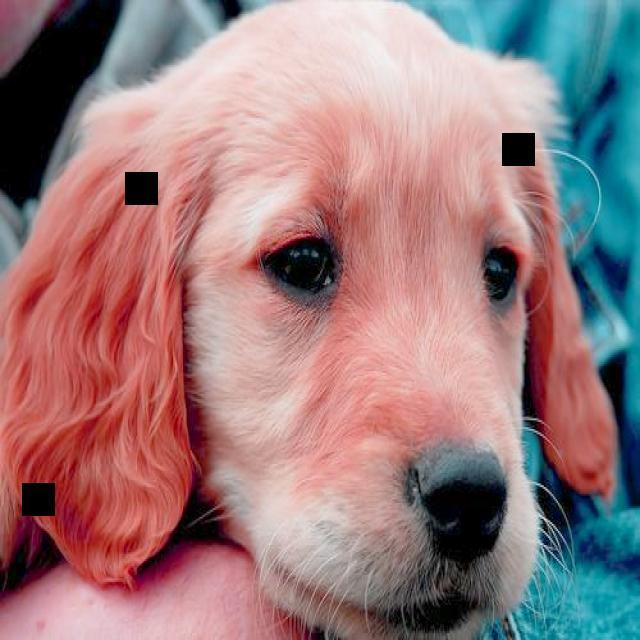puppy-dog: (2, 1, 612, 640)
